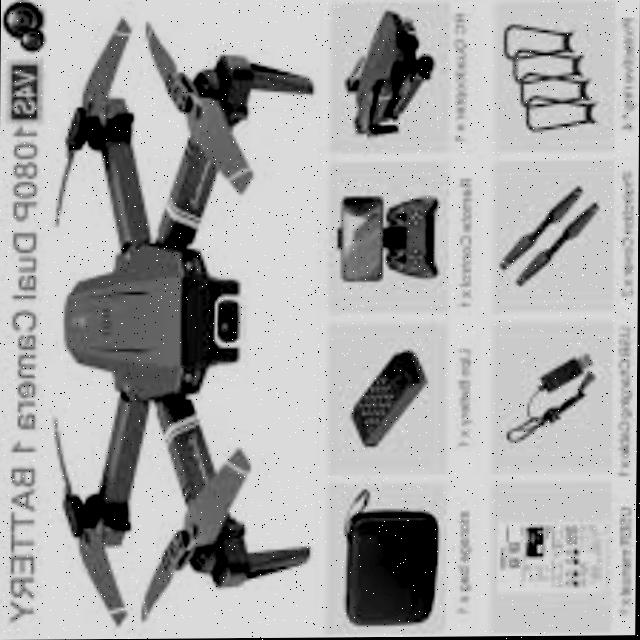drone: (43, 0, 311, 640)
